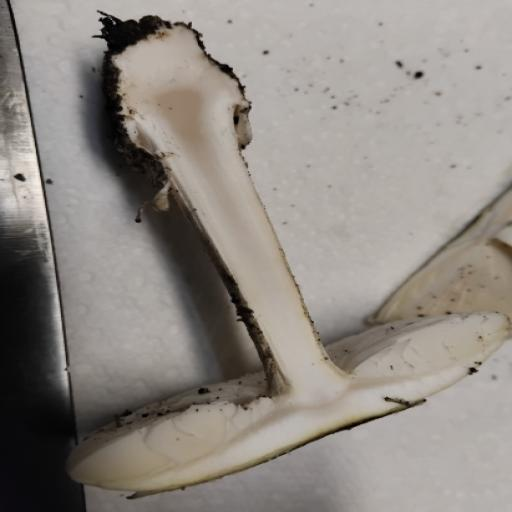Death Cap: (41, 18, 512, 512)
